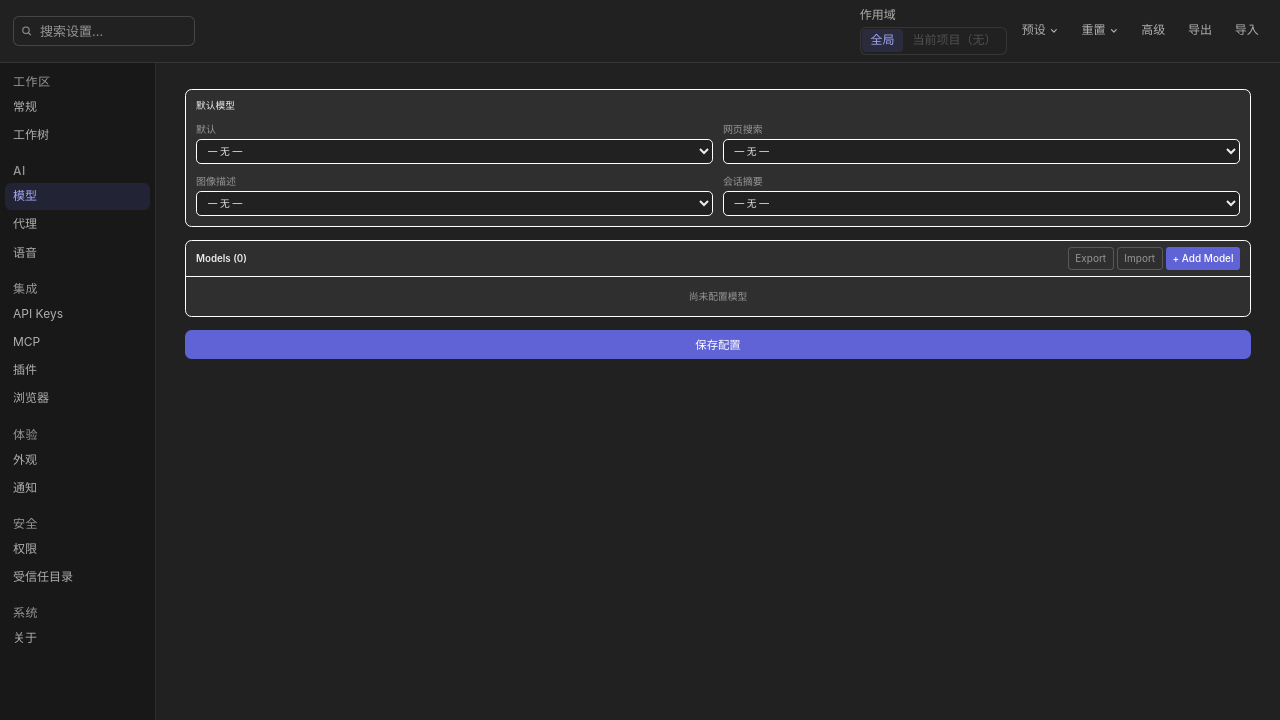
Scenario: Settings Center (R4-07) › staged settings collect in the change bar; Apply writes, Discard reverts
Expected: the navigation bar named "设置分类" is shown, left=0, top=63, right=156, bottom=719
Click the button "权限".
click(78, 549)  # box left=5, top=536, right=150, bottom=563
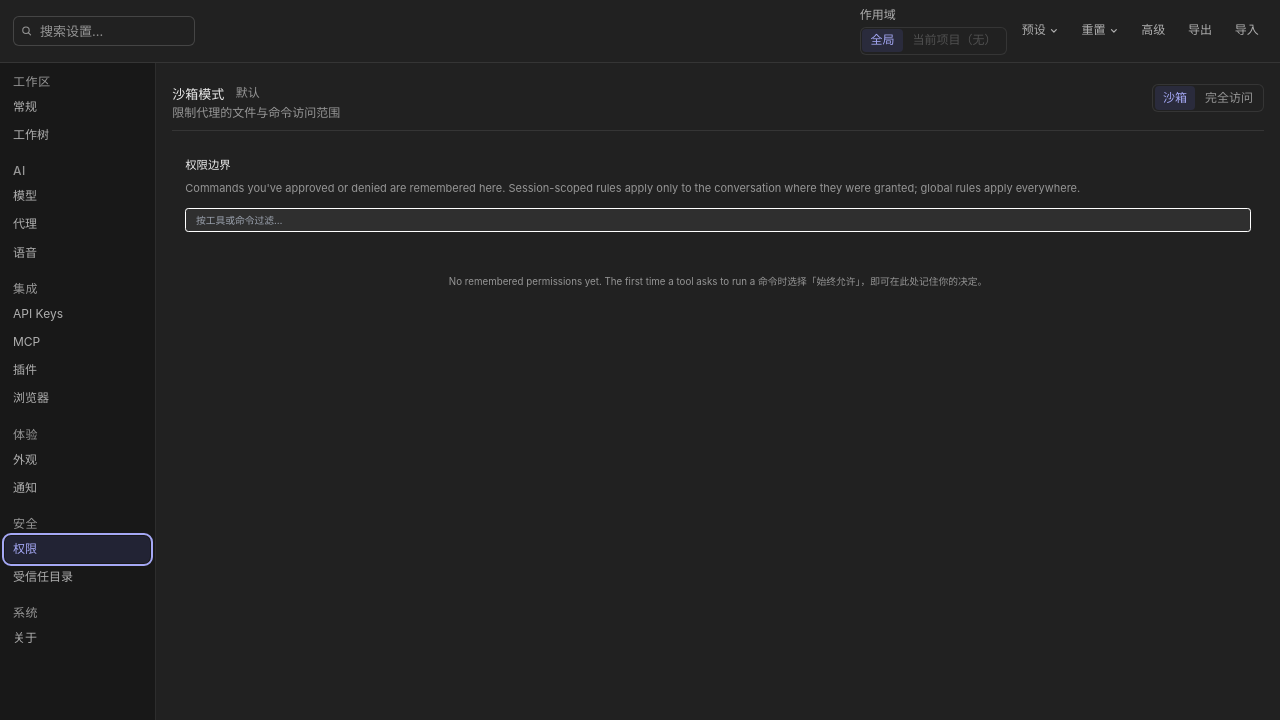
sandboxMode is staged — toggle it
Click the radio button labelled "完全访问".
click(1229, 98)  # box left=1197, top=86, right=1261, bottom=110
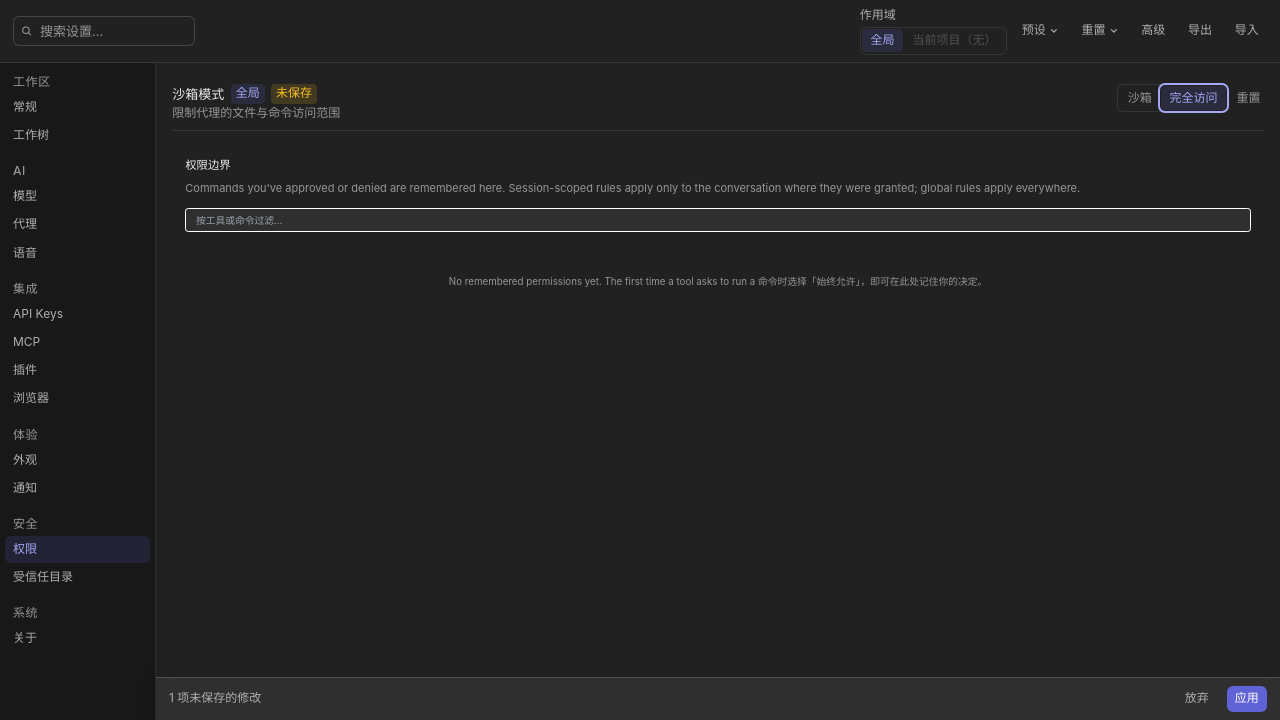
Expected: the message with test id "settings-change-bar" shows "1 项未保存", left=156, top=677, right=1279, bottom=719
Click the button "应用".
click(1247, 699)  # box left=1227, top=686, right=1267, bottom=712
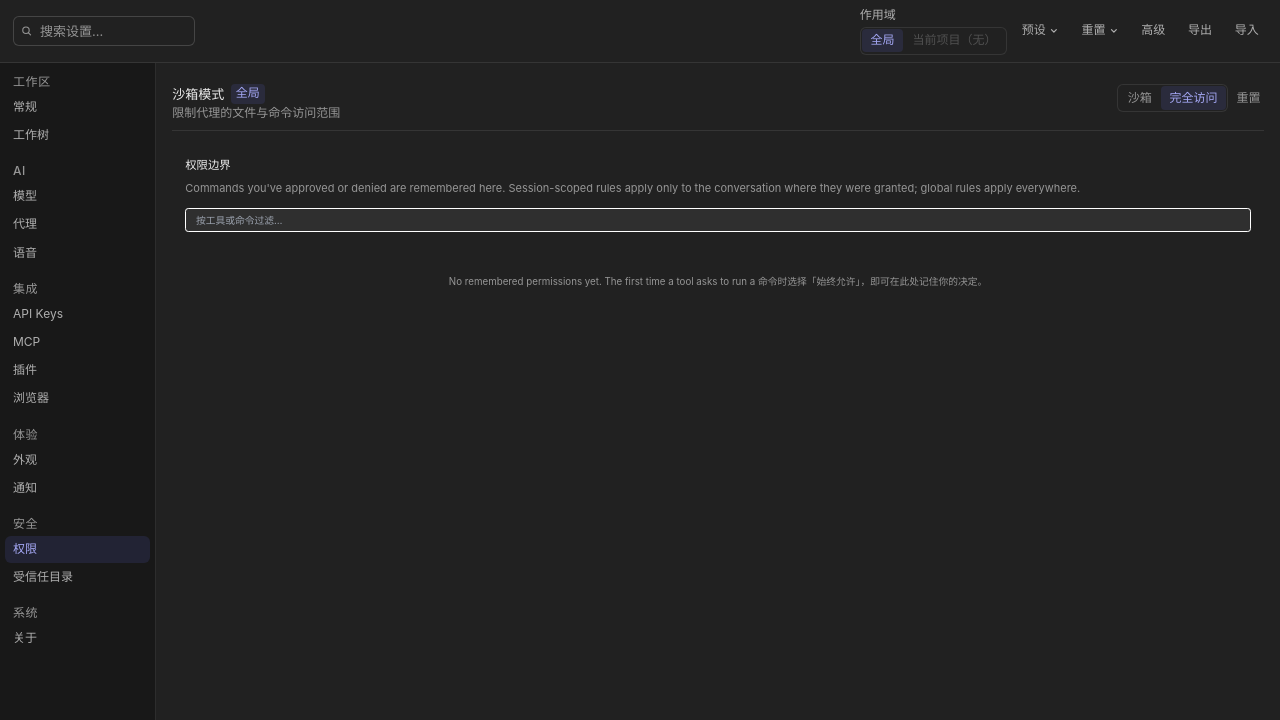
Expected: the message with test id "settings-change-bar" is gone
